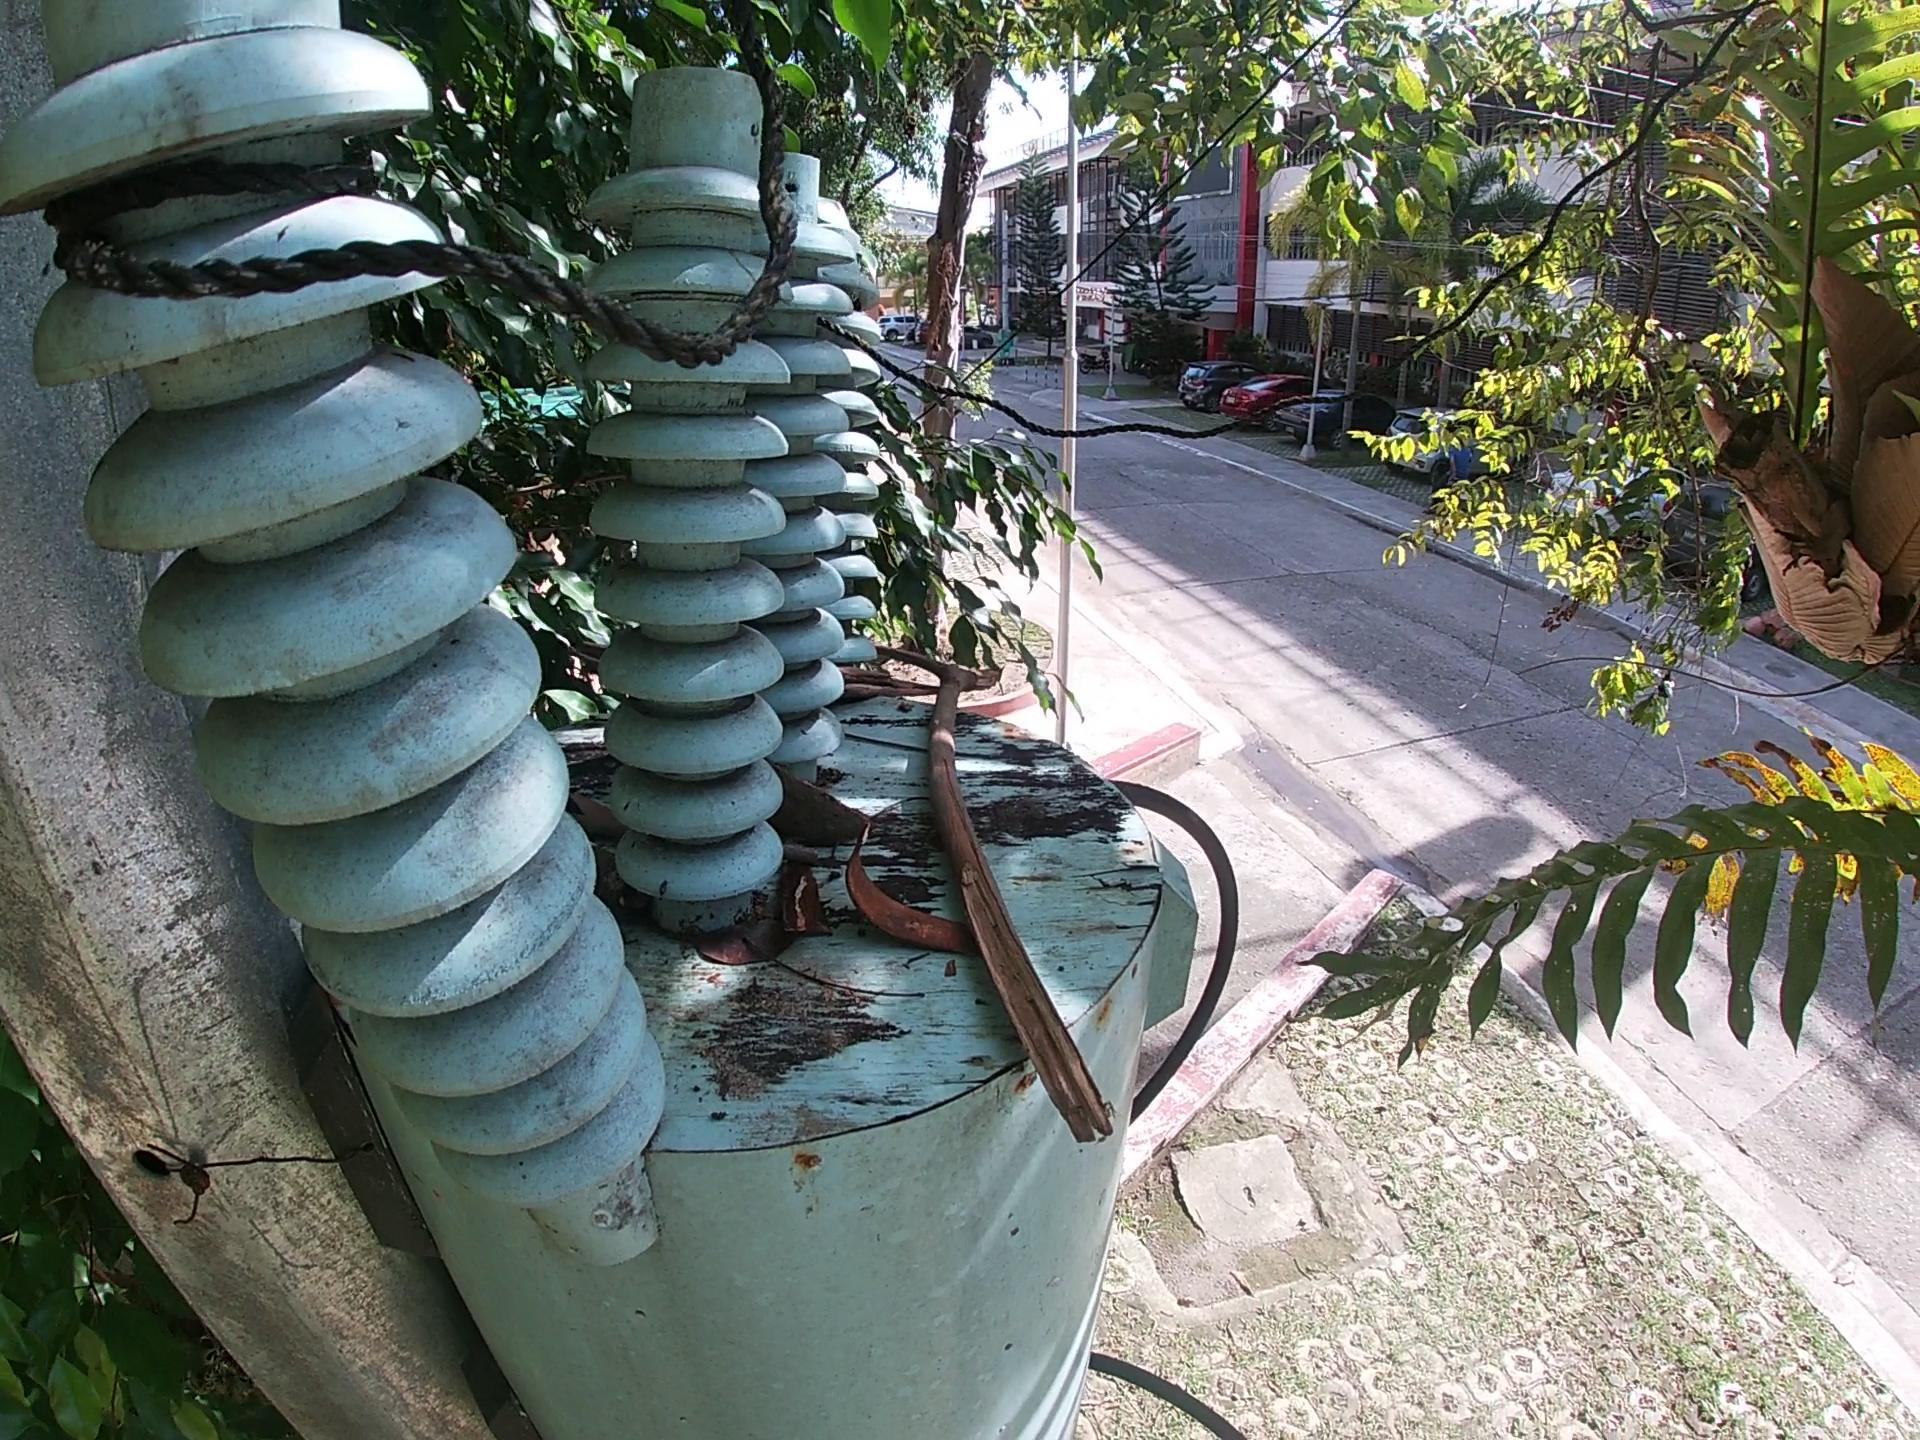leaf: (673, 920, 766, 973), (562, 793, 621, 833)
mahogany fruit: (838, 814, 968, 959), (759, 774, 880, 836)
tree branch: (877, 638, 1126, 1145), (763, 948, 927, 1007), (830, 666, 927, 715), (599, 849, 652, 926), (774, 867, 818, 945), (841, 725, 924, 765), (562, 628, 602, 673), (949, 750, 1069, 762), (777, 843, 830, 865)
